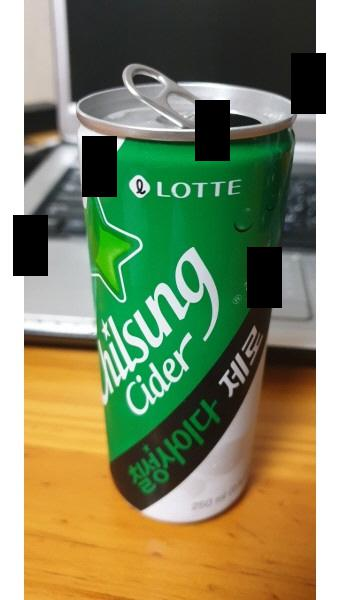chilsungcider_zero: (66, 77, 298, 530)
